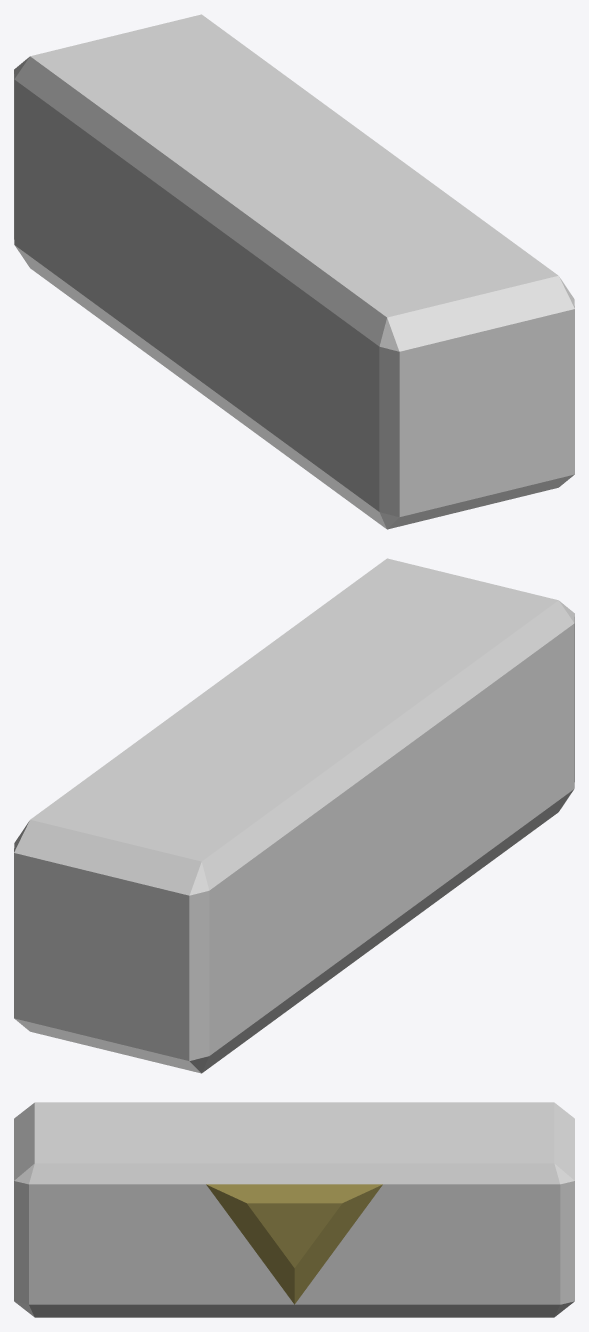
The model's file is BloqueEspecial.fbx.
3 renders of one model, top to bottom at view 1: azimuth 30°, elevation 25°; view 2: azimuth 150°, elevation 25°; view 3: azimuth 270°, elevation 25°, orthographic. The views are drawn at different scales.
Parts seen in each view (by area): view 1: Cube; view 2: Cube; view 3: Cube.
Part boxes in pixels (left/top/right/bottom): Cube: left=14, top=14, right=574, bottom=529; Cube: left=14, top=558, right=574, bottom=1073; Cube: left=14, top=1102, right=574, bottom=1317.
Bounding box in the file's own units: 117 × 115 × 380.
